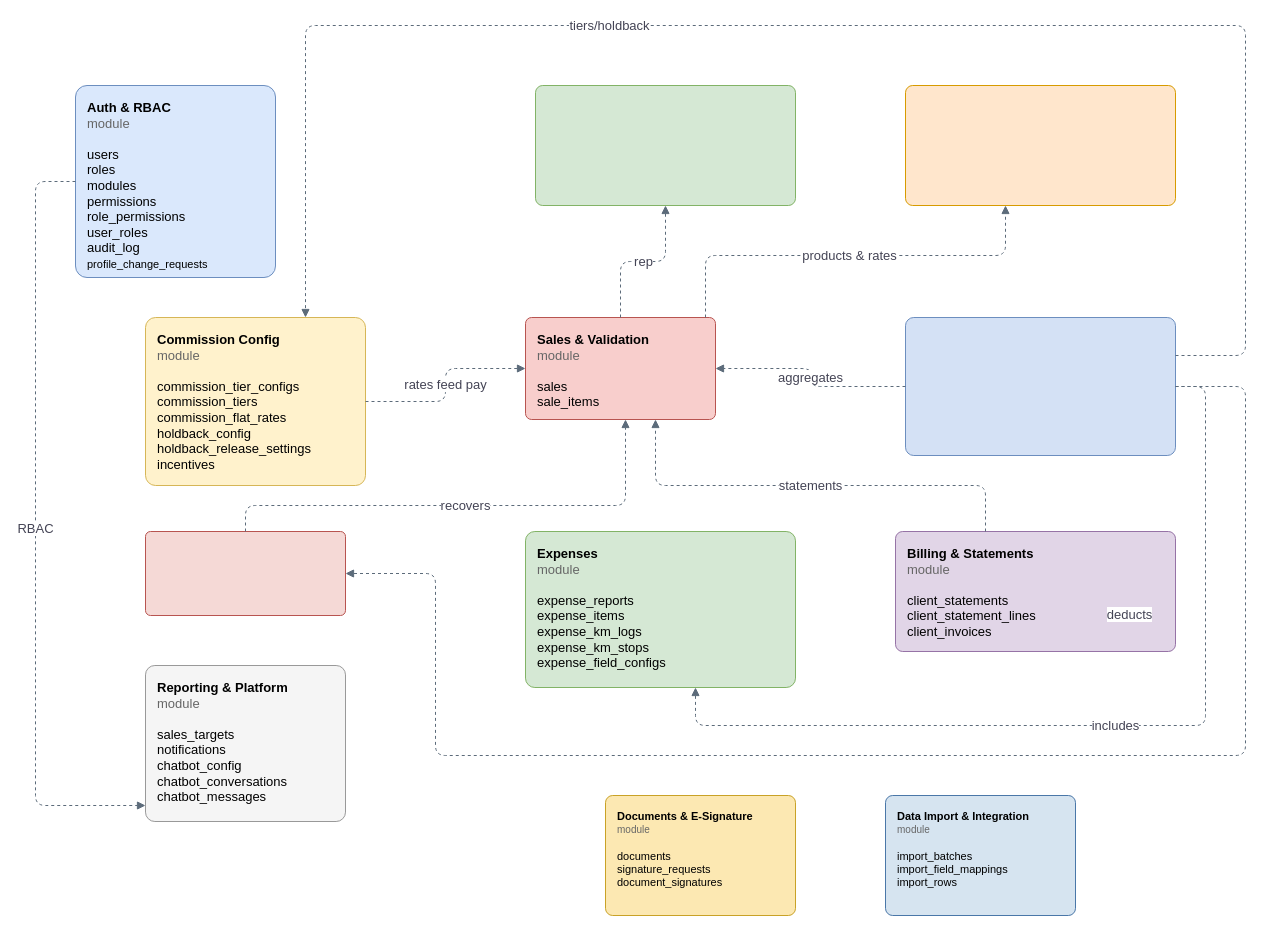
This 1271x933 diagram has some shape labels left out. Here are the shapes that lost their labels. From the top down, the centre of each, then its label:
At (x=665, y=145): "HRM / Reps module reps rep_documents rep_equipment".
At (x=1040, y=145): "Clients & Products (Config) module clients products client_billing_rates".
At (x=1040, y=386): "Pay Run & Holdback module pay_periods pay_runs pay_run_lines holdback_ledger".
At (x=245, y=573): "Clawback module clawbacks".
